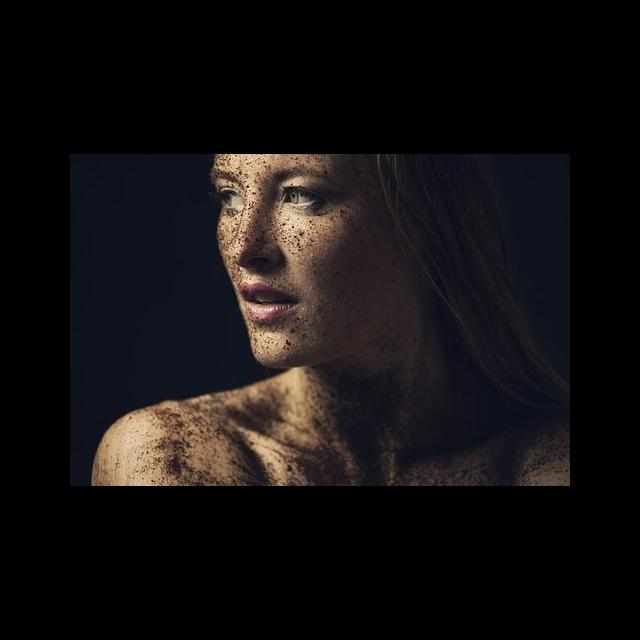female: (175, 154, 454, 382)
